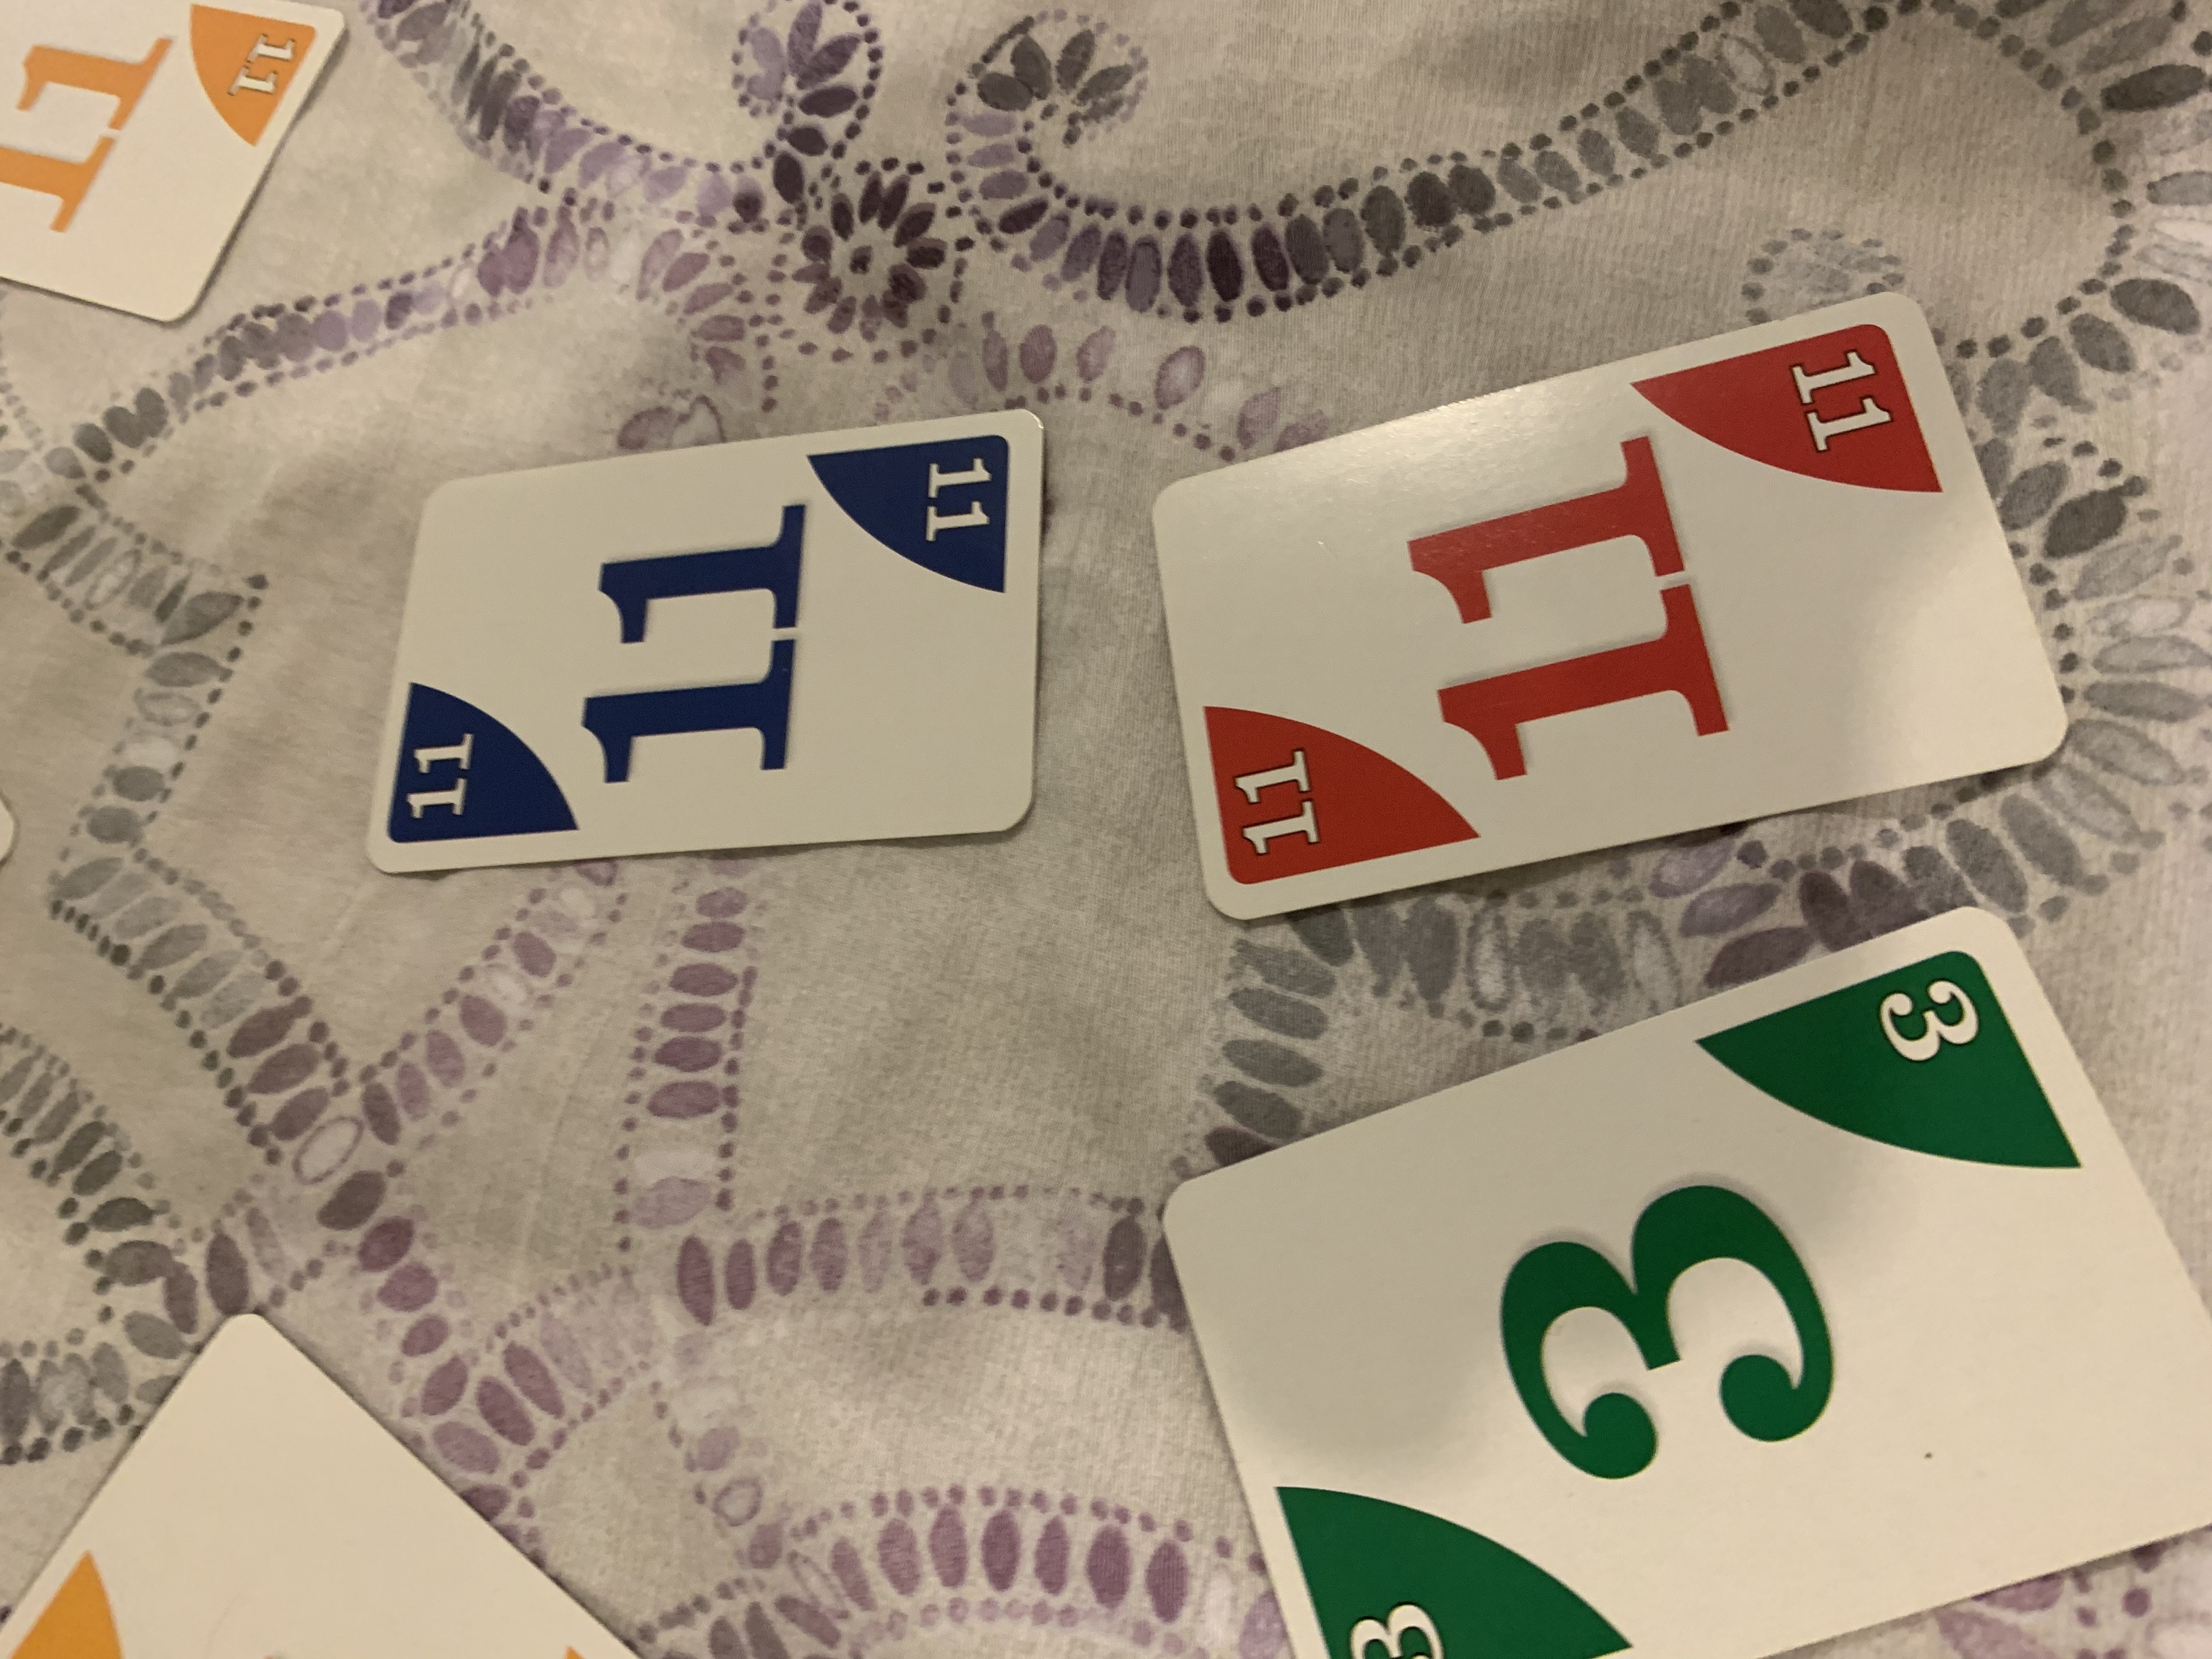eleven: (1144, 282, 2080, 932), (361, 399, 1052, 884)
three: (1111, 904, 2212, 1645)
